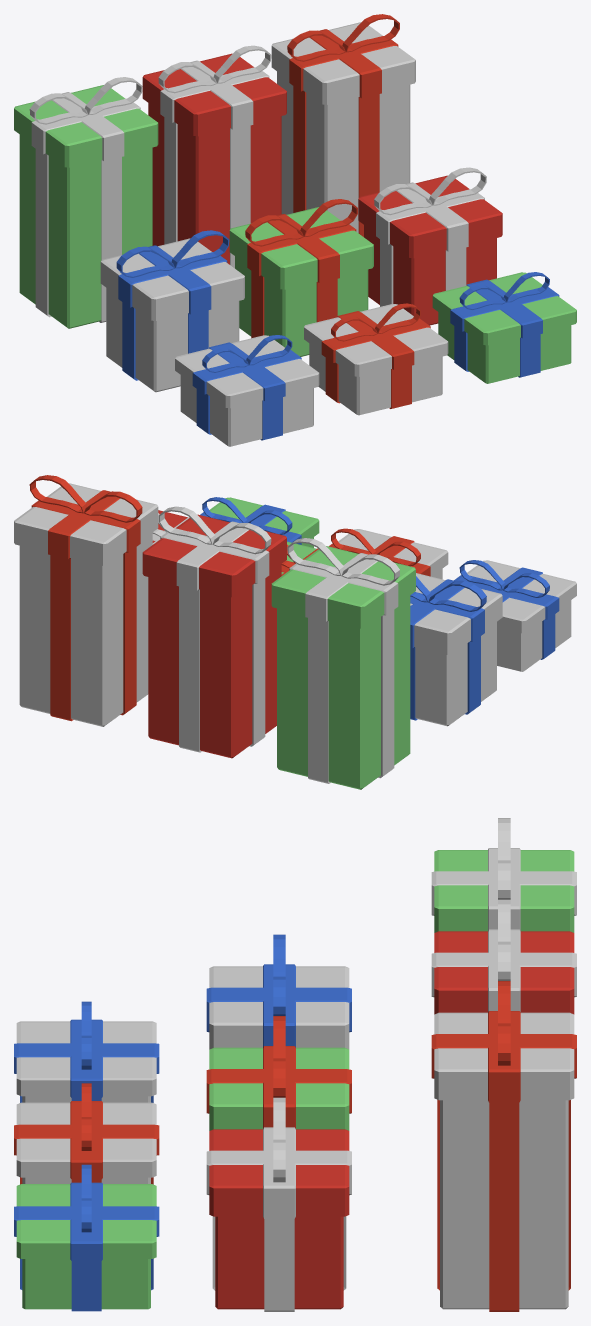
Rendered from Presents.fbx.
3 renders of one model, top to bottom at view 1: azimuth 30°, elevation 25°; view 2: azimuth 150°, elevation 25°; view 3: azimuth 270°, elevation 25°, orthographic. The views are drawn at different scales.
Visible parts, largest first — view 1: Cube.007, Cube.008, Cube.006, Cube.002, Cube, Cube.001, Cube.003, Cube.005, Cube.004; view 2: Cube.007, Cube.006, Cube.008, Cube.002, Cube.003, Cube.004, Cube.005, Cube.001, Cube; view 3: Cube.006, Cube.001, Cube.005, Cube, Cube.002, Cube.008, Cube.007, Cube.003, Cube.004.
Boxes of the visible parts, x1,y1,x2,y2 form: Cube.007: (14, 77, 158, 328); Cube.008: (142, 45, 286, 268); Cube.006: (271, 14, 415, 236); Cube.002: (100, 230, 244, 392); Cube: (229, 199, 373, 356); Cube.001: (358, 167, 502, 325); Cube.003: (175, 335, 319, 446); Cube.005: (432, 272, 576, 383); Cube.004: (304, 303, 448, 415); Cube.007: (271, 538, 415, 789); Cube.006: (14, 475, 158, 726); Cube.008: (142, 506, 286, 758); Cube.002: (410, 573, 502, 726); Cube.003: (454, 560, 576, 671); Cube.004: (329, 528, 448, 579); Cube.005: (200, 497, 319, 547); Cube.001: (152, 510, 189, 544); Cube: (281, 541, 318, 575); Cube.006: (431, 981, 576, 1311); Cube.001: (206, 1097, 351, 1311); Cube.005: (14, 1164, 159, 1311); Cube: (206, 1016, 351, 1130); Cube.002: (206, 934, 351, 1049); Cube.008: (431, 899, 576, 1014); Cube.007: (431, 818, 576, 932); Cube.003: (14, 1001, 159, 1102); Cube.004: (14, 1083, 159, 1184).
Bounding box in the file's own units: 1703 × 958 × 1753.
